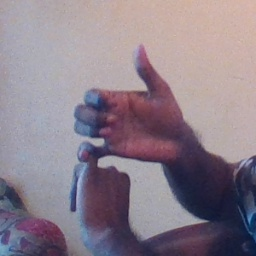S: (56, 41, 185, 215)
